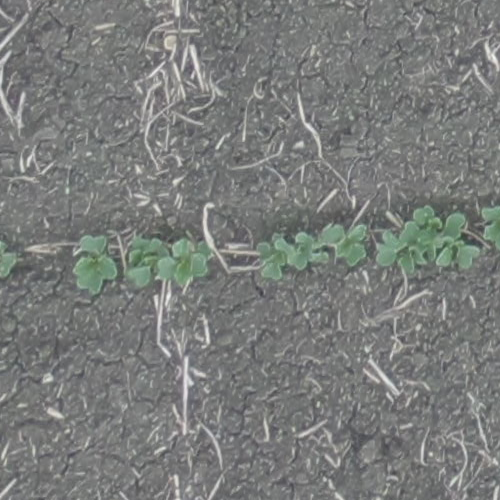clumped: (375, 207, 480, 273), (125, 235, 212, 289), (257, 231, 324, 279), (481, 206, 499, 252)
isolated: (73, 234, 117, 297), (324, 224, 370, 266), (0, 242, 15, 277)
